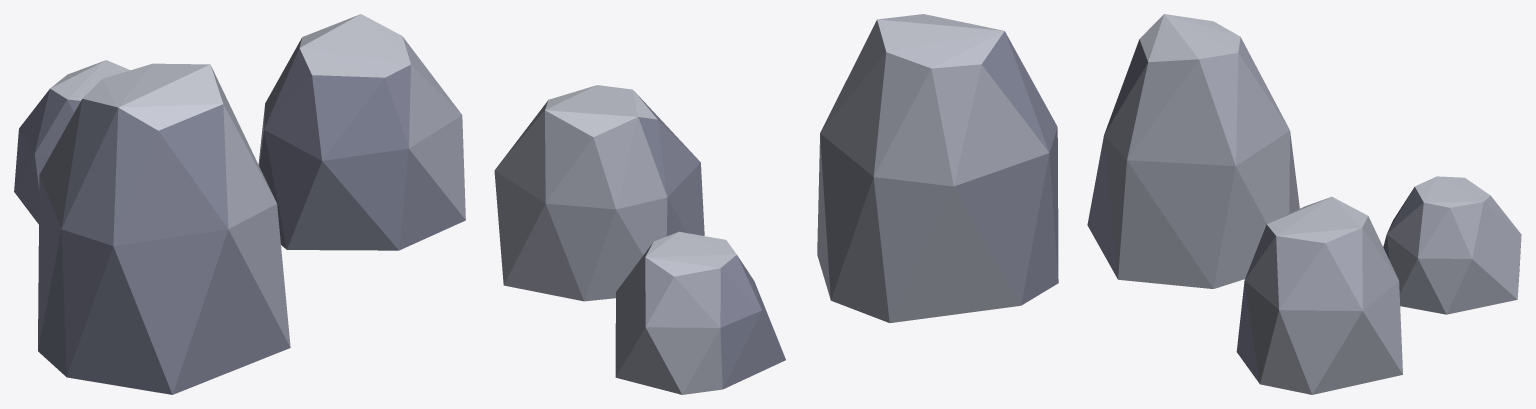
The model's file is stones.glb.
3 views of the same model, side by side, from view 1: azimuth 30°, elevation 25°; view 2: azimuth 150°, elevation 25°; view 3: azimuth 270°, elevation 25° (orthographic). The views are drawn at different scales.
Parts seen in each view (by area): view 1: stones; view 2: stones; view 3: stones.
Boxes of the visible parts, x1=… form: stones: x1=14, y1=14, x2=465, y2=394; stones: x1=494, y1=14, x2=1058, y2=394; stones: x1=1087, y1=14, x2=1521, y2=394.
Size of the model in its own units: 0.9 by 0.45 by 0.85.
1 material, 1 textured.
